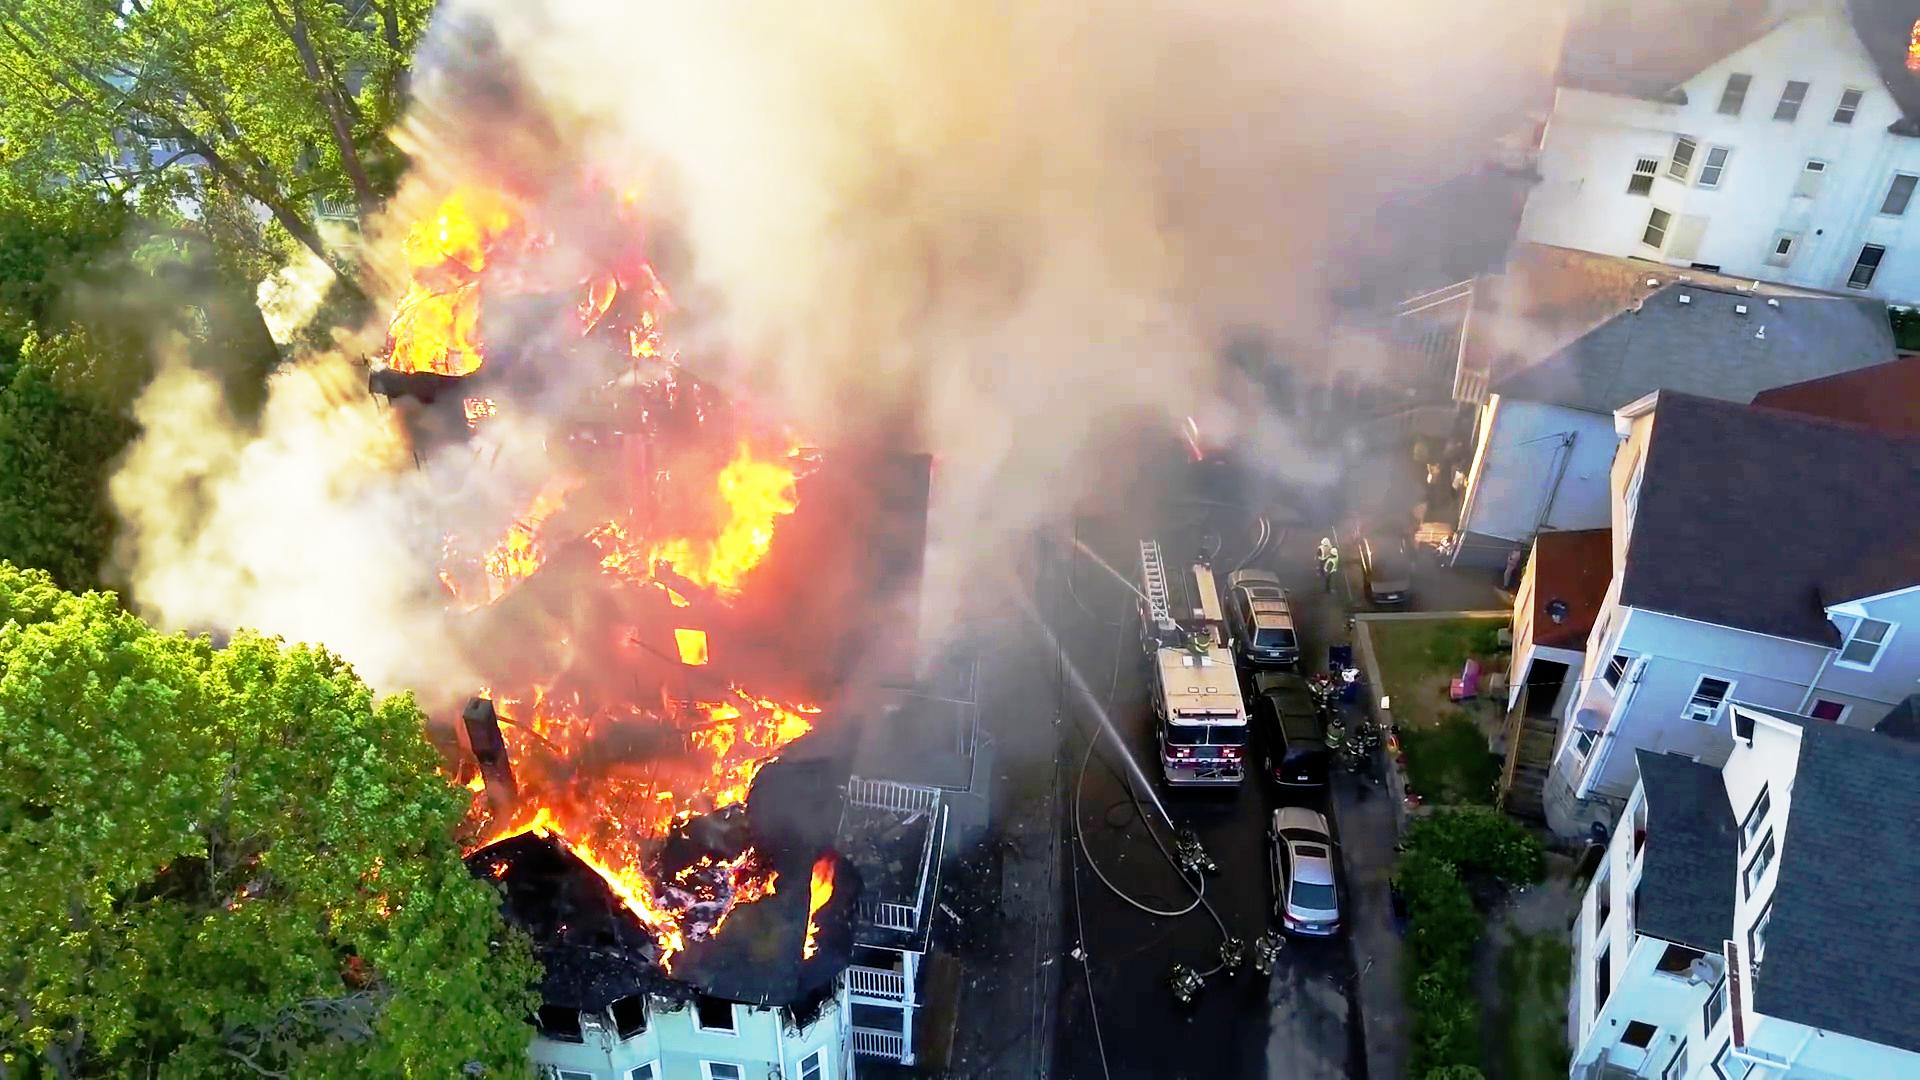fire: (513, 693, 806, 818), (390, 170, 509, 375), (683, 436, 823, 610)
smoke: (706, 31, 1335, 357)
